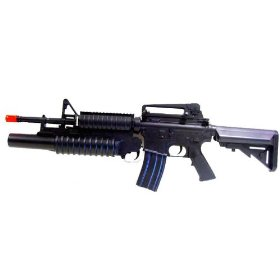rifle: (3, 95, 279, 201)
